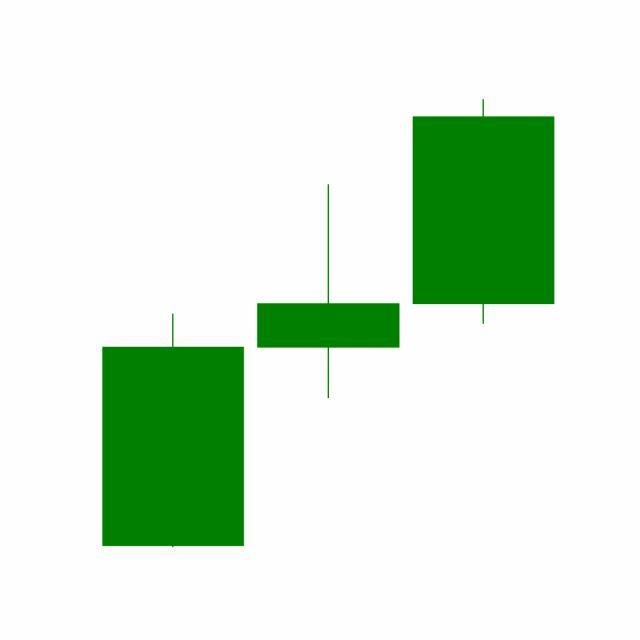Spinning Top: (250, 182, 407, 402)
